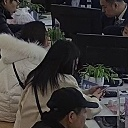head: (52, 52, 75, 75)
